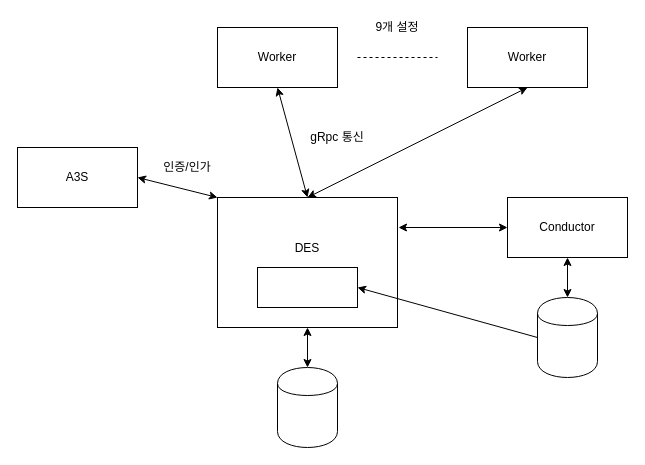
The diagram is 645 pixels wide and 465 high, and some of its shapes have lost their labels. Each missing label, with the centre of its shape:
Conductor DB: point (567, 337)
Coordinator: point (307, 287)
DES DB: point (307, 407)
